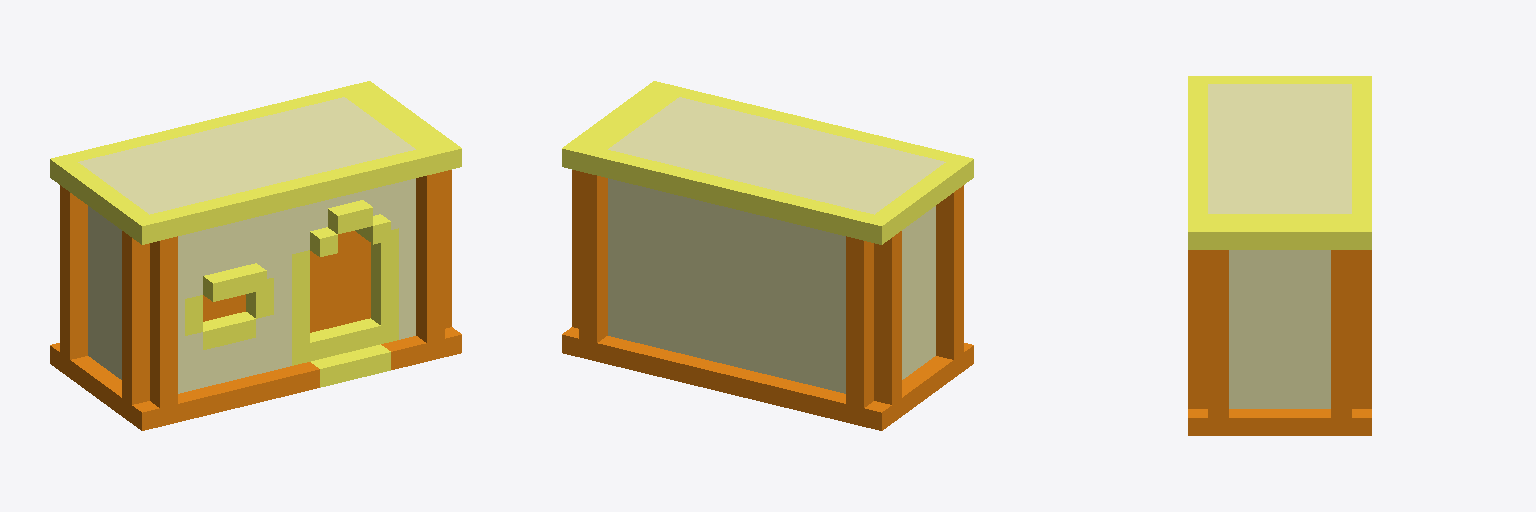
3 views of the same model, side by side, from view 1: azimuth 30°, elevation 25°; view 2: azimuth 150°, elevation 25°; view 3: azimuth 270°, elevation 25° (orthographic).
Visible parts, largest first — view 1: dodai_madoAriOK; view 2: dodai_madoAriOK; view 3: dodai_madoAriOK.
Part boxes in pixels (x1,y1,x2,y2): dodai_madoAriOK: (50,81,461,430); dodai_madoAriOK: (562,81,973,430); dodai_madoAriOK: (1188,76,1371,435).
Size of the model in its own units: 18 by 11 by 9.
1 materials, 1 textured.